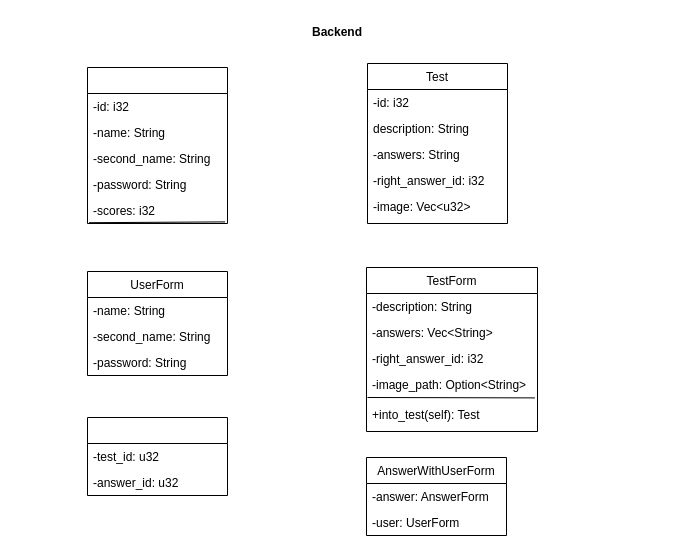
The diagram is 674 pixels wide and 555 high, and some of its shapes have lost their labels. Here are the shapes that lost their labels. From the top down, the box of each, then its label:
(86, 66, 228, 224): User
(86, 416, 228, 496): AnswerForm
